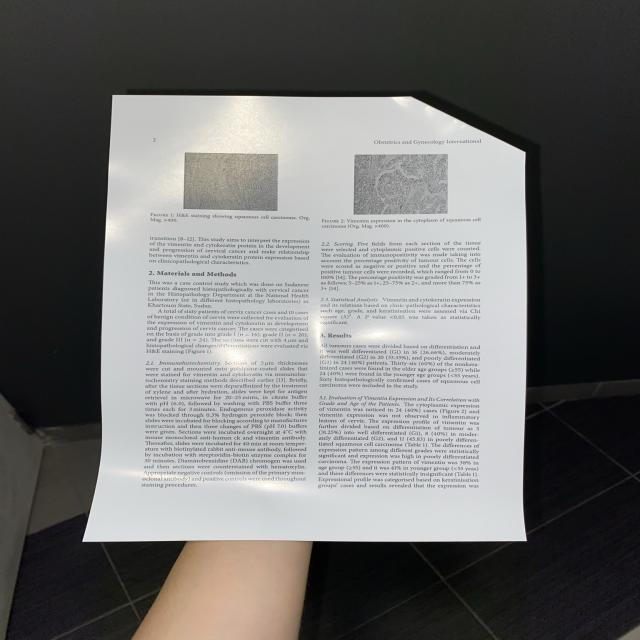document: (85, 95, 527, 541)
